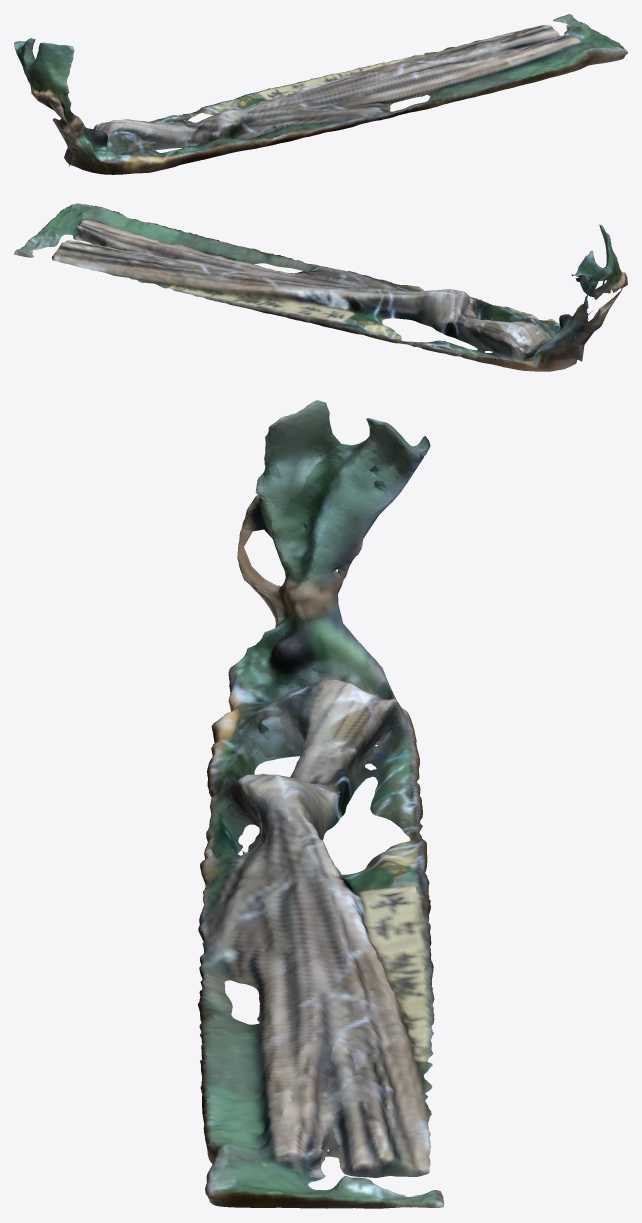
Rendered from 藁算材料.glb.
3 renders of one model, top to bottom at view 1: azimuth 30°, elevation 25°; view 2: azimuth 150°, elevation 25°; view 3: azimuth 270°, elevation 25°, orthographic. The views are drawn at different scales.
Visible parts, largest first — view 1: mesh; view 2: mesh; view 3: mesh.
Boxes of the visible parts, box(x1,y1,x2,y2) form: mesh: box(14, 14, 627, 174); mesh: box(14, 203, 627, 371); mesh: box(198, 400, 443, 1208).
Bounding box in the file's own units: 0.3871 × 0.0853 × 0.0724.
1 material, 1 textured.
